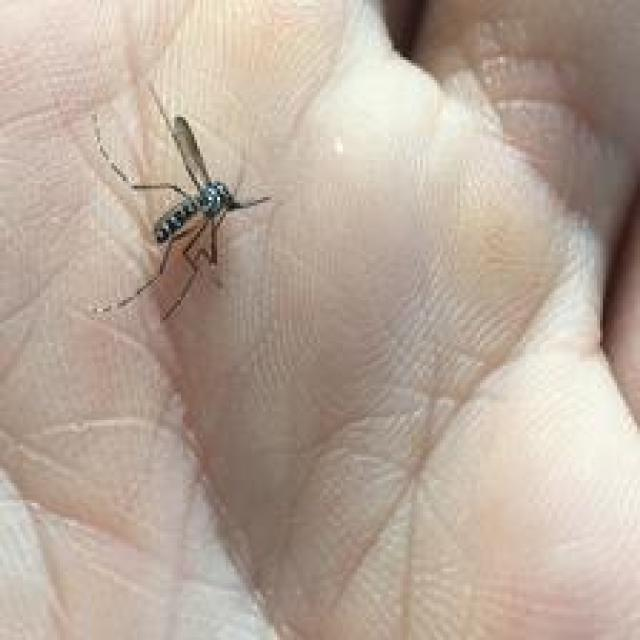Aedes albopictus: (88, 80, 272, 323)
